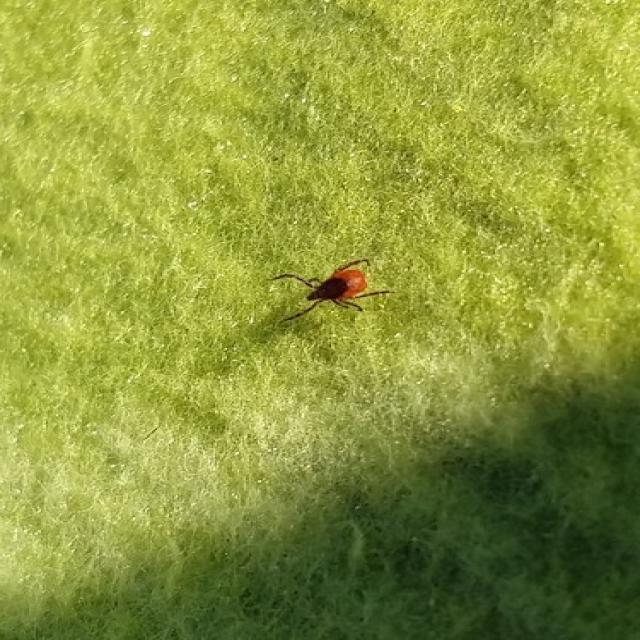Ixodes Ricinus-F: (254, 260, 384, 333)
